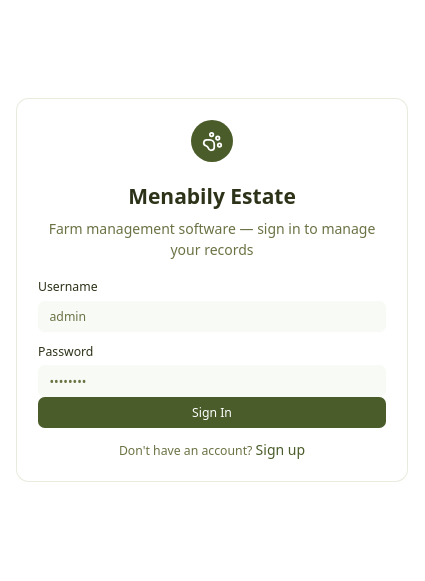
Scenario: Login › reveals the farm-name field when switching to sign-up
What coordinates should you click on to do the following:
click the button "Sign up"
I would click on:
 (280, 449)
Its box is top-left (256, 439), bottom-right (305, 460).
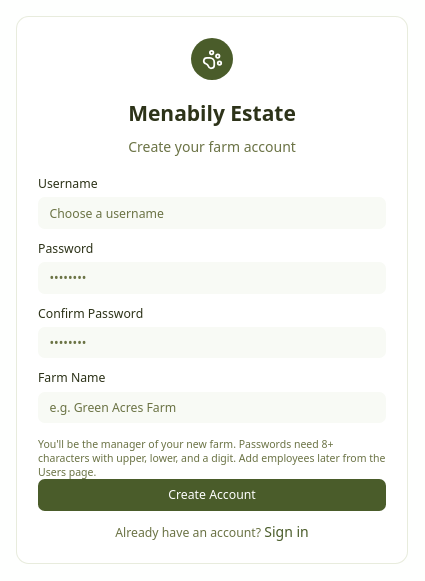
expect the field labelled "Farm Name" is shown: met, box top-left (38, 392), bottom-right (386, 423)
expect the text "Create your farm account" is shown: met, box top-left (128, 136), bottom-right (296, 157)
